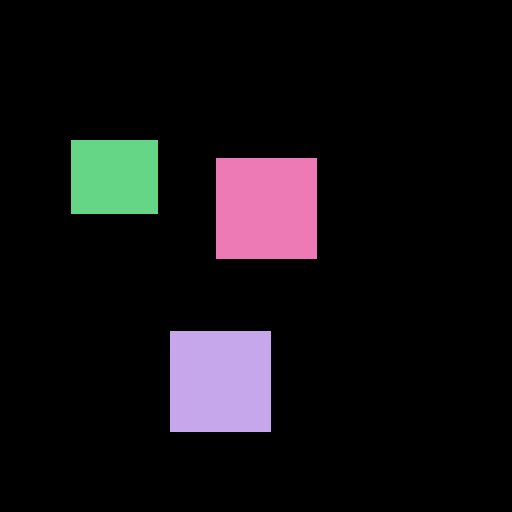rectangle: (71, 140, 157, 213)
square: (170, 331, 270, 431), (216, 158, 316, 258)
